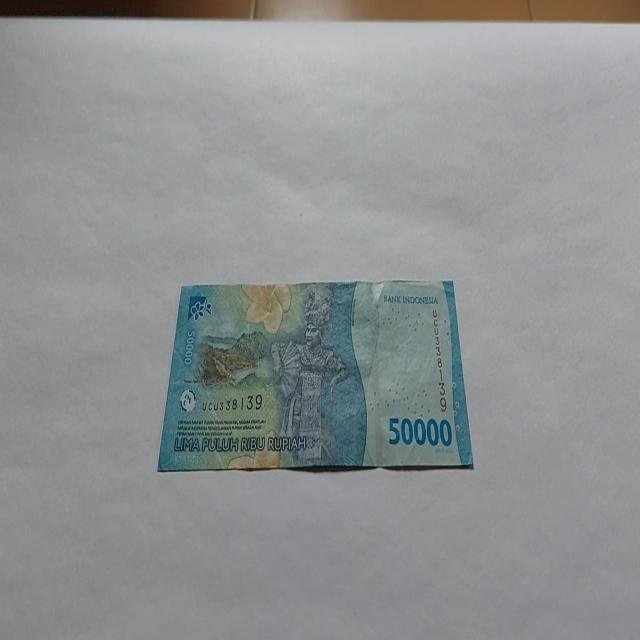lima puluh ribu rupiah: (156, 277, 474, 474)
